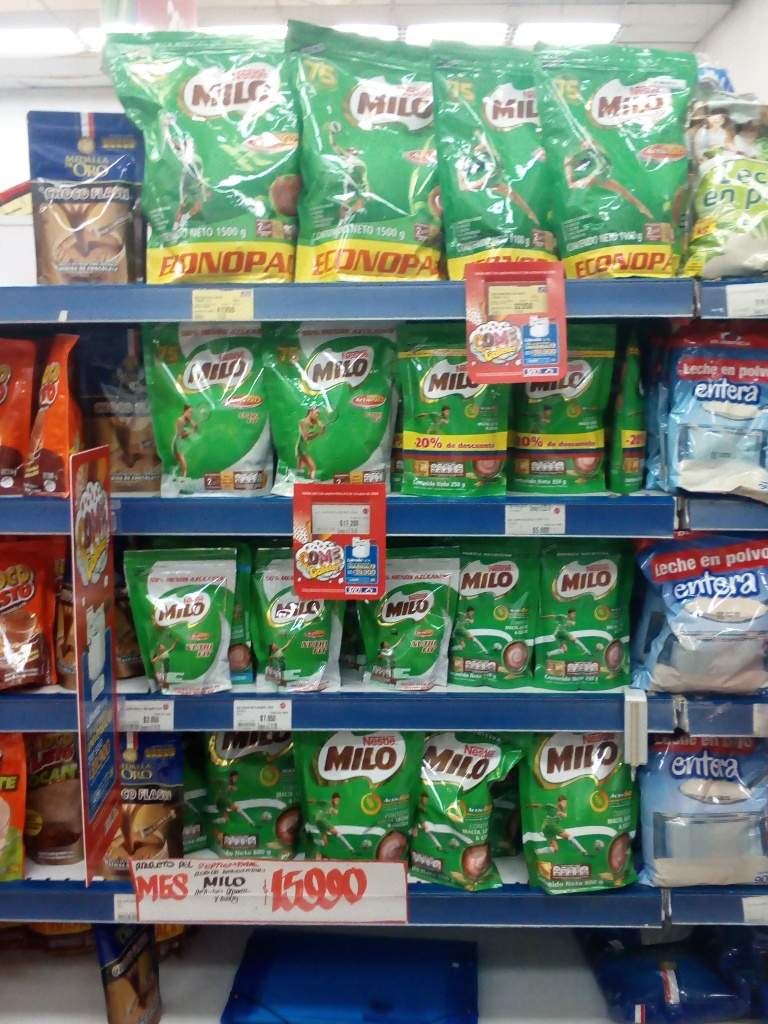COL0170205DYP50000: (256, 316, 397, 496)
